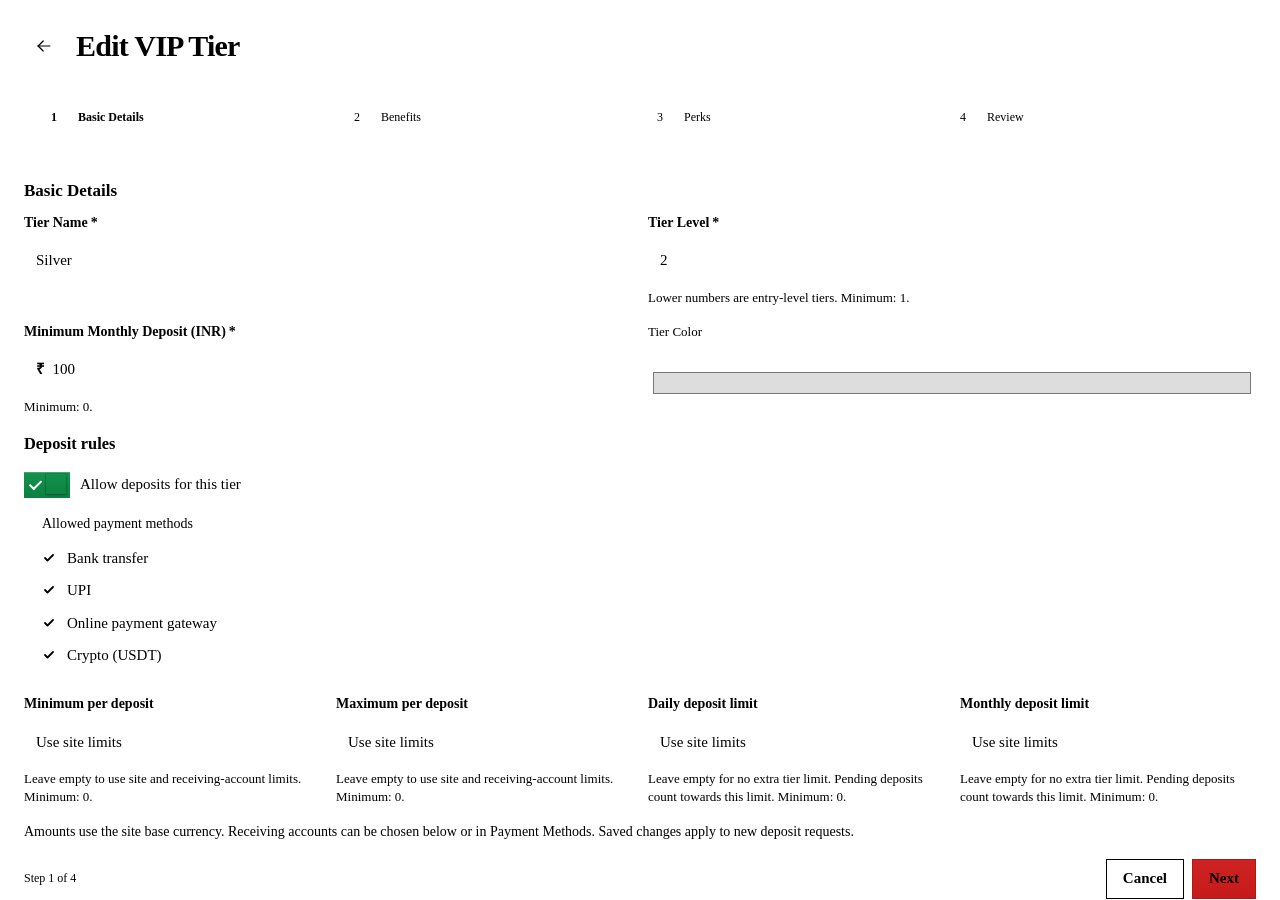
VIP create/edit wizard › edit hydrates existing fields, keeps id separately and retains data on a refused mutation
The image size is (1280, 900).
Click the button "Next".
click(1224, 879)  # box [1192, 859, 1256, 899]
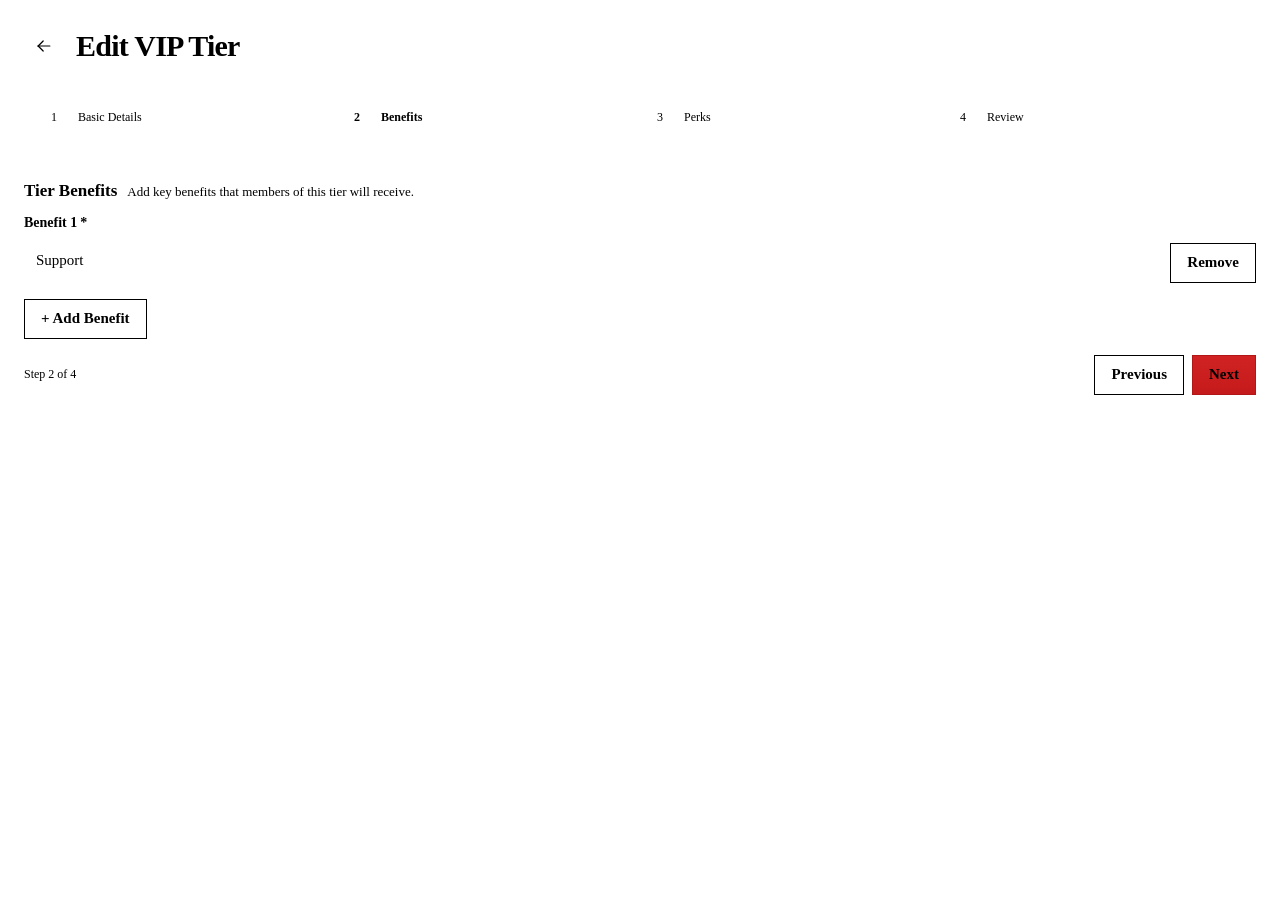
Check: the heading "Tier Benefits" is shown, box [24, 181, 117, 201]
Click the button "Next".
click(1224, 375)  # box [1192, 355, 1256, 395]
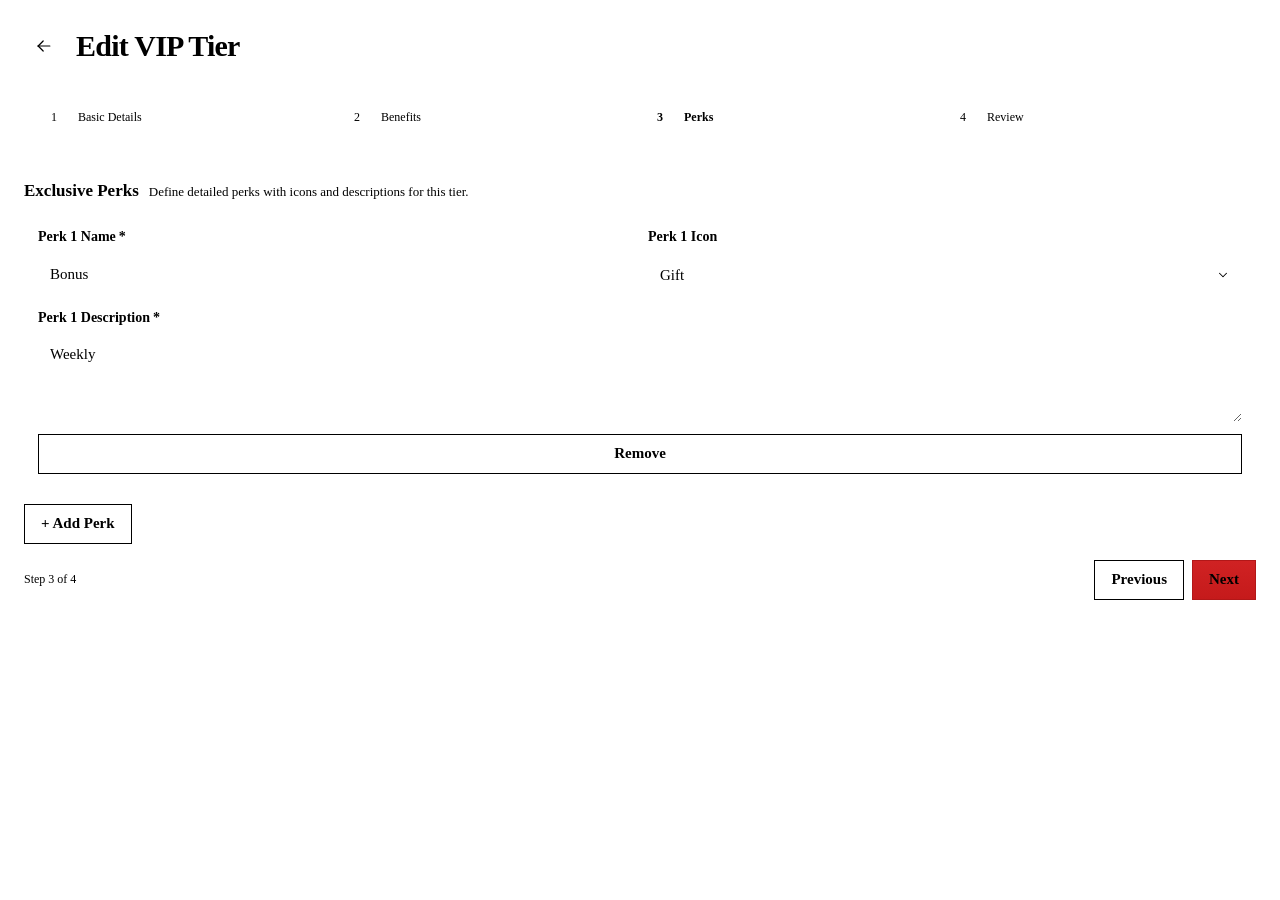
Check: the heading "Exclusive Perks" is shown, box [24, 181, 139, 201]
Click the button "Next".
click(1224, 580)  # box [1192, 560, 1256, 600]
(page scrolled)
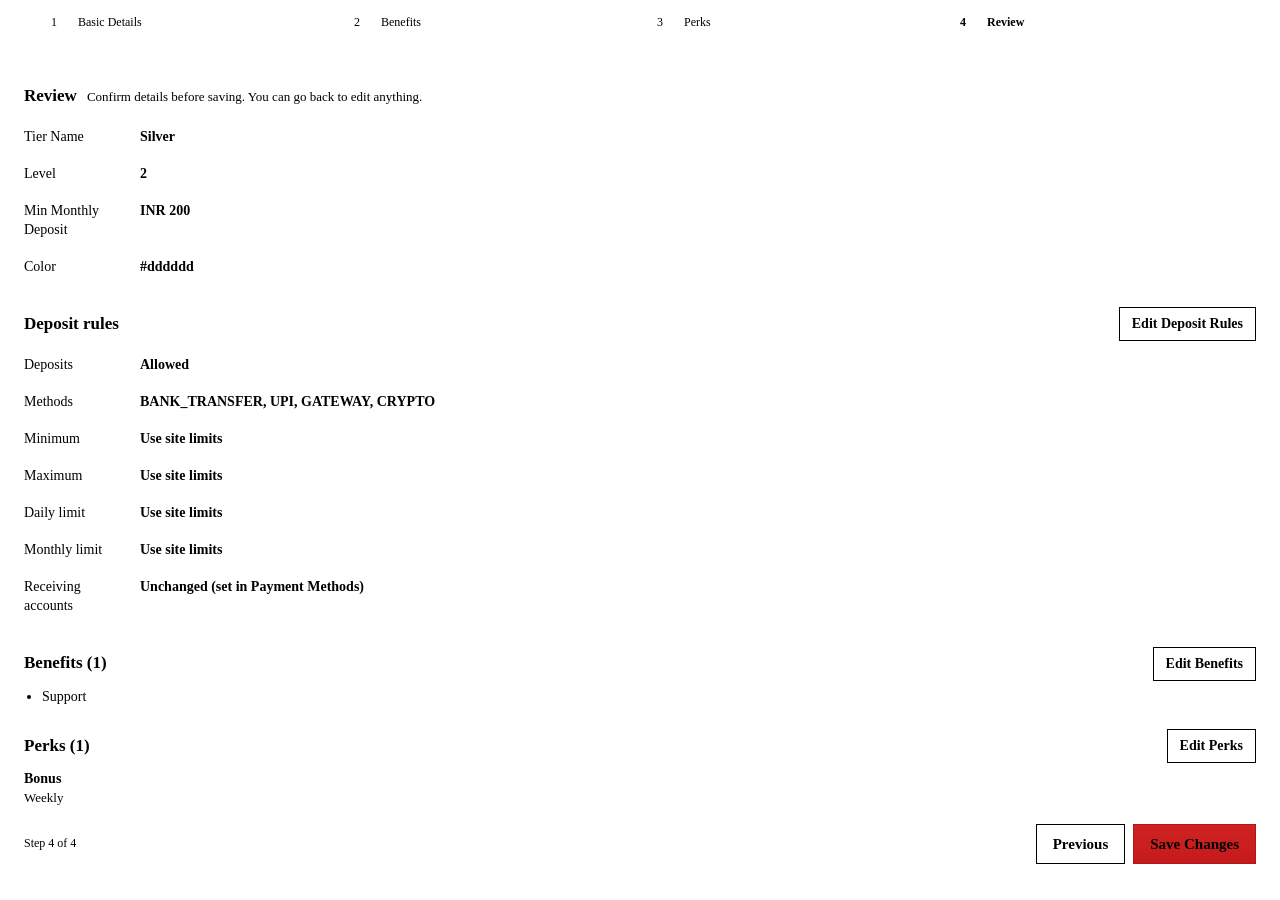
Check: the heading "Review" is shown, box [24, 86, 77, 106]
Click the button "Save Changes".
click(1195, 844)  # box [1133, 824, 1256, 864]
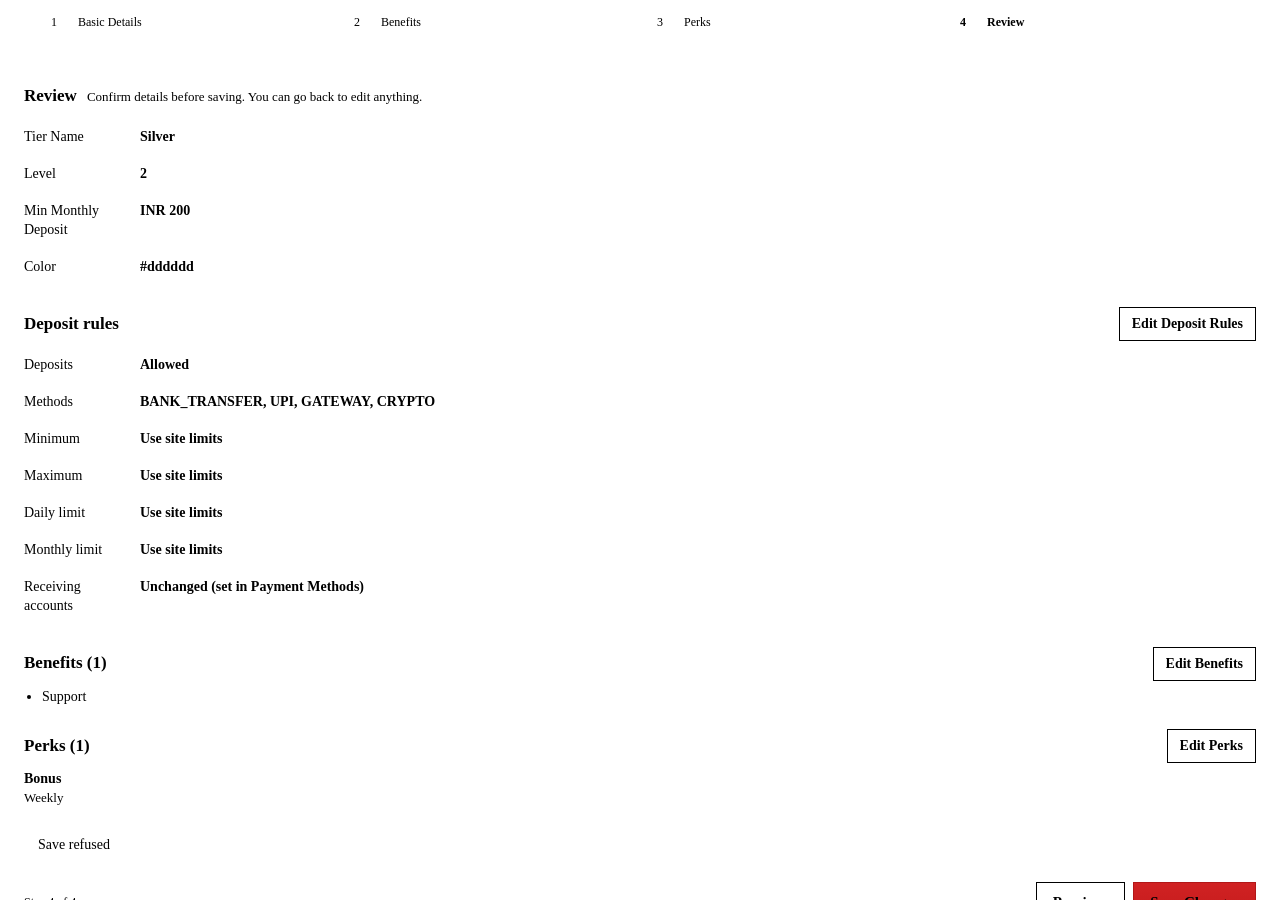
Check: the text "Save refused" is shown, box [38, 837, 110, 852]
